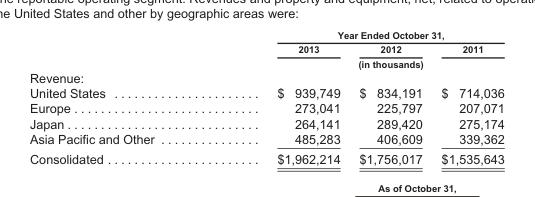table: (28, 29, 503, 165)
table column: (28, 29, 215, 165), (215, 29, 349, 165), (349, 29, 431, 165), (431, 29, 503, 165)
table column header: (28, 29, 503, 69)
table projected row header: (28, 69, 503, 85)
table row: (28, 130, 503, 148), (28, 148, 503, 165), (28, 69, 503, 85), (28, 41, 503, 56), (28, 85, 503, 100), (28, 100, 503, 115), (28, 115, 503, 130), (28, 56, 503, 69), (28, 29, 503, 41)
table spanning cell: (215, 56, 503, 69), (215, 29, 503, 41)
